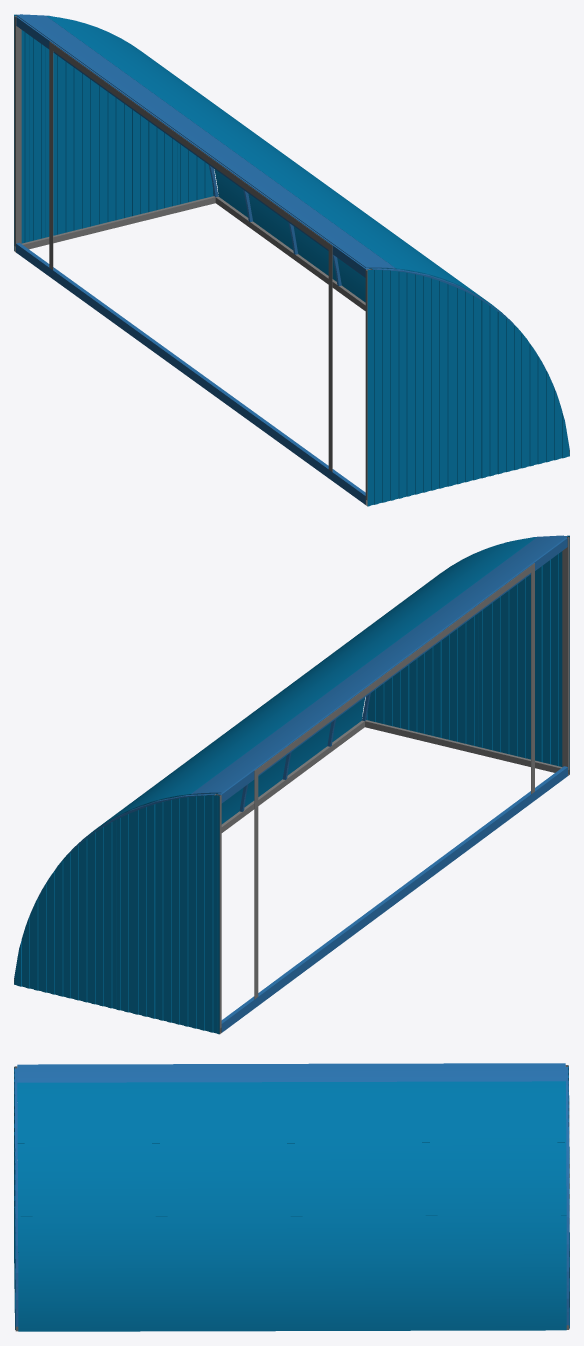
The model's file is Phase01_CanopyLeft.fbx.
3 views of the same model, one above another, from view 1: azimuth 30°, elevation 25°; view 2: azimuth 150°, elevation 25°; view 3: azimuth 270°, elevation 25° (orthographic). The views are drawn at different scales.
Visible parts, largest first — view 1: RAL 5015 (×6), Проф лист 3:Проф лист 3:765294, По умолчанию (×5), Проф лист 3:Проф лист 3:765302, Швелер-опора1:Швелер-опора 2:765274, Проф лист 1:Проф лист 5:765293, Проф лист 3 2 — копия:Проф лист 3 2 — копия:765298, Проф лист 1:Проф лист 5:765303, Фланец-балка:Фланец-балка:765275, Швелер-опора1:Швелер-опора 2:765295, Балка 40-80:Балка 40-80:765271; view 2: RAL 5015 (×6), Проф лист 3:Проф лист 3:765294, По умолчанию (×5), Проф лист 3:Проф лист 3:765302, Швелер-опора1:Швелер-опора 2:765274, Проф лист 1:Проф лист 5:765293, Проф лист 1:Проф лист 5:765303, Проф лист 3 2 — копия:Проф лист 3 2 — копия:765299, Фланец-балка:Фланец-балка:765275, Швелер-опора1:Швелер-опора 2:765295, Балка 40-80:Балка 40-80:765271, Проф лист 3 — копия:Проф лист 3 — копия:765296; view 3: Проф лист 3 2:Проф лист 3 2:765297, Проф лист 3 — копия:Проф лист 3 — копия:765296, Проф лист 3:Проф лист 3:765294, Проф лист 3 2:Проф лист 3 2:765300, Проф лист 3 — копия:Проф лист 3 — копия:765301, Проф лист 3:Проф лист 3:765302, Проф лист 3 2 — копия:Проф лист 3 2 — копия:765298, Проф лист 3 2 — копия:Проф лист 3 2 — копия:765299, Проф лист 1:Проф лист 5:765293, Проф лист 1:Проф лист 5:765303, Фланец-балка вертикальная1:Фланец-балка вертикальная 2:76528, Фланец-балка вертикальная1:Фланец-балка вертикальная 2:76527.
Part boxes in pixels (x1,y1,x2,y2): RAL 5015 (×6): (14, 14, 569, 506); Проф лист 3:Проф лист 3:765294: (47, 16, 316, 179); По умолчанию (×5): (14, 15, 372, 500); Проф лист 3:Проф лист 3:765302: (243, 157, 469, 290); Швелер-опора1:Швелер-опора 2:765274: (16, 242, 365, 504); Проф лист 1:Проф лист 5:765293: (16, 14, 241, 157); Проф лист 3 2 — копия:Проф лист 3 2 — копия:765298: (214, 169, 365, 302); Проф лист 1:Проф лист 5:765303: (213, 156, 395, 268); Фланец-балка:Фланец-балка:765275: (49, 41, 332, 252); Швелер-опора1:Швелер-опора 2:765295: (16, 16, 369, 277); Балка 40-80:Балка 40-80:765271: (215, 196, 569, 454); RAL 5015 (×6): (14, 535, 569, 1034); Проф лист 3:Проф лист 3:765294: (115, 649, 384, 816); По умолчанию (×5): (214, 537, 569, 1027); Проф лист 3:Проф лист 3:765302: (311, 537, 536, 671); Швелер-опора1:Швелер-опора 2:765274: (221, 766, 567, 1032); Проф лист 1:Проф лист 5:765293: (191, 648, 415, 794); Проф лист 1:Проф лист 5:765303: (386, 536, 567, 649); Проф лист 3 2 — копия:Проф лист 3 2 — копия:765299: (221, 697, 365, 824); Фланец-балка:Фланец-балка:765275: (254, 563, 534, 777); Швелер-опора1:Швелер-опора 2:765295: (218, 537, 567, 803); Балка 40-80:Балка 40-80:765271: (14, 720, 364, 982); Проф лист 3 — копия:Проф лист 3 — копия:765296: (57, 673, 308, 867); Проф лист 3 2:Проф лист 3 2:765297: (258, 1215, 566, 1293); Проф лист 3 — копия:Проф лист 3 — копия:765296: (258, 1142, 566, 1216); Проф лист 3:Проф лист 3:765294: (257, 1081, 566, 1143); Проф лист 3 2:Проф лист 3 2:765300: (18, 1216, 258, 1293); Проф лист 3 — копия:Проф лист 3 — копия:765301: (17, 1143, 258, 1216); Проф лист 3:Проф лист 3:765302: (17, 1082, 257, 1143); Проф лист 3 2 — копия:Проф лист 3 2 — копия:765298: (258, 1292, 566, 1331); Проф лист 3 2 — копия:Проф лист 3 2 — копия:765299: (18, 1293, 258, 1331); Проф лист 1:Проф лист 5:765293: (257, 1063, 565, 1082); Проф лист 1:Проф лист 5:765303: (17, 1064, 257, 1082); Фланец-балка вертикальная1:Фланец-балка вертикальная 2:76528: (565, 1067, 569, 1325); Фланец-балка вертикальная1:Фланец-балка вертикальная 2:76527: (14, 1068, 18, 1326).
Size of the model in its own units: 2917 by 8524 by 3185.
